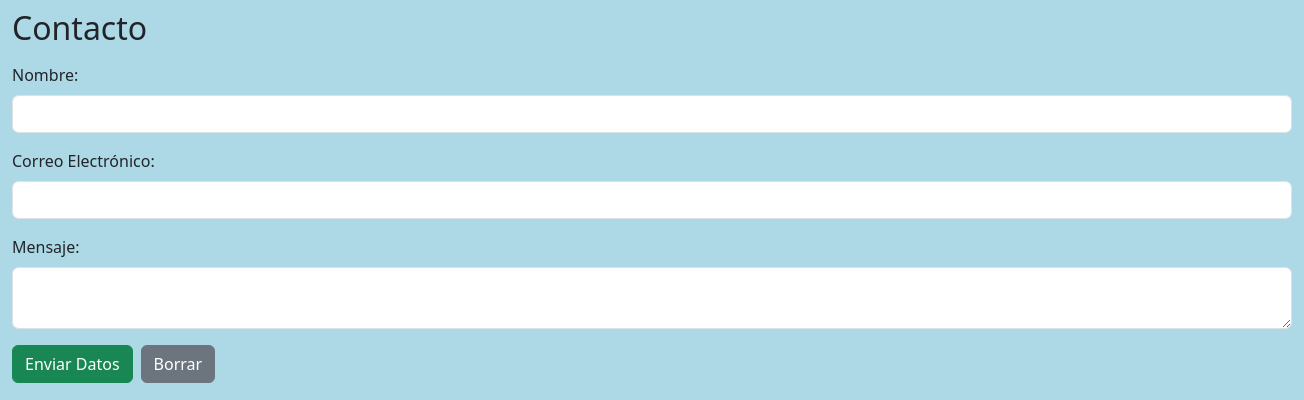
Test: Contacto › Limpia todos los campos cuando se clickea "Borrar"
This screenshot has width=1304, height=400.
Step 1. Type "Juan" into the field labelled "Nombre:" → x=652, y=114, box [12,95,1292,133]
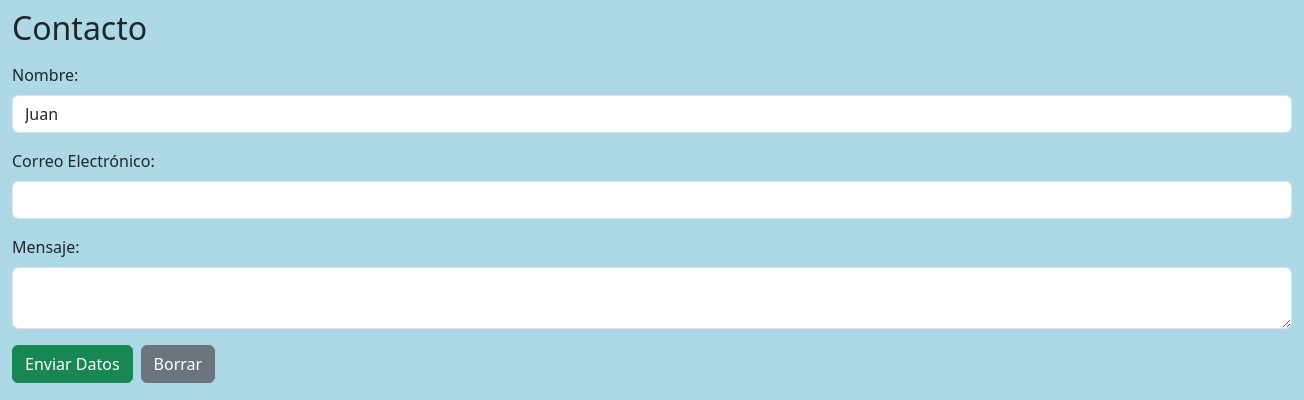
Step 2. Type "juan@example.com" into the field labelled "Correo Electrónico:" → x=652, y=200, box [12,181,1292,219]
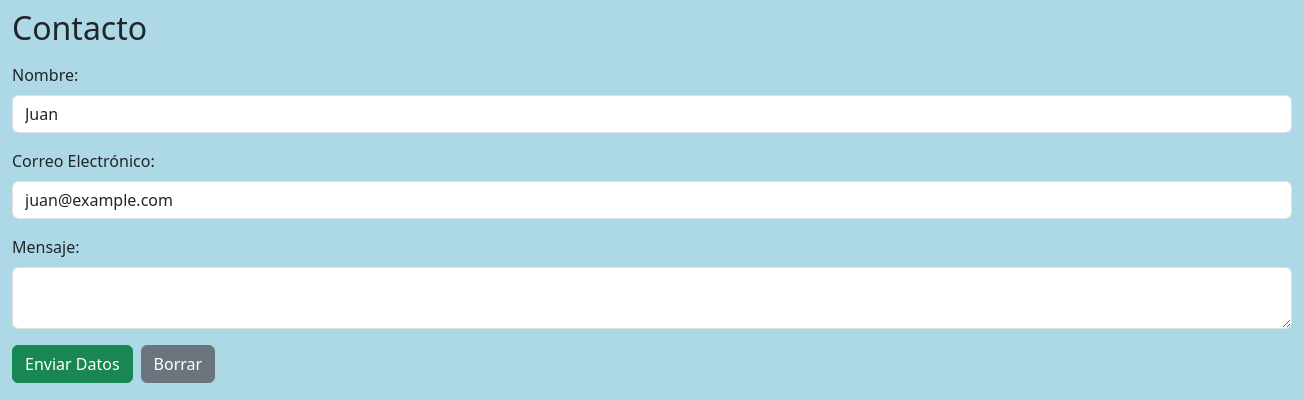
Step 3. Type "Hola" into the text box labelled "Mensaje:" → x=652, y=298, box [12,267,1292,329]
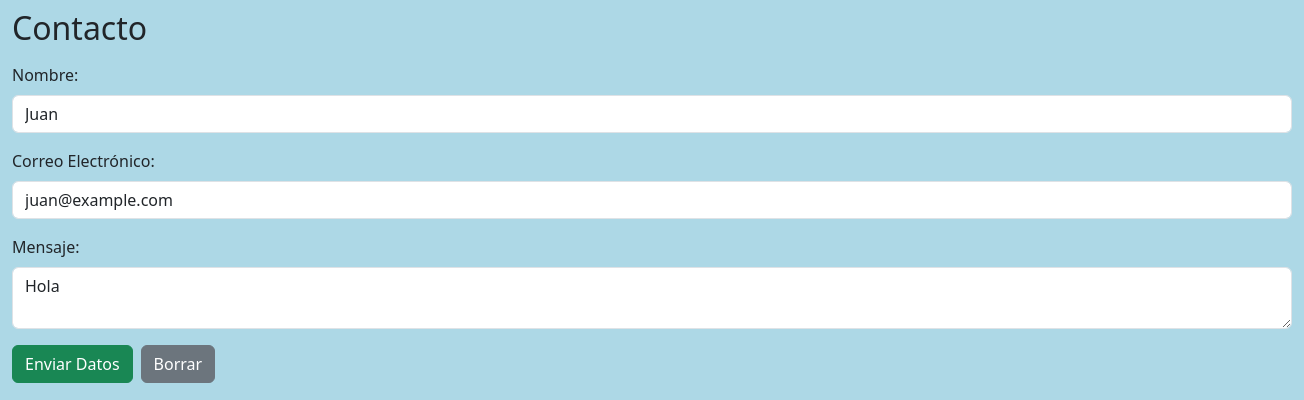
Step 4. Click the button "Borrar" → x=178, y=364, box [141,345,215,383]
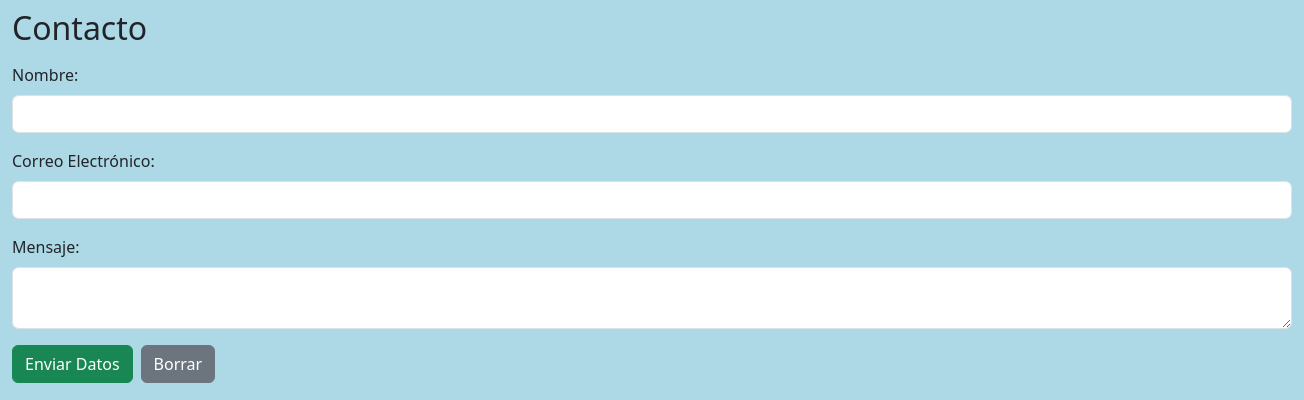
Check: the field labelled "Nombre:" is empty, box [12,95,1292,133]
Check: the field labelled "Correo Electrónico:" is empty, box [12,181,1292,219]
Check: the text box labelled "Mensaje:" is empty, box [12,267,1292,329]
